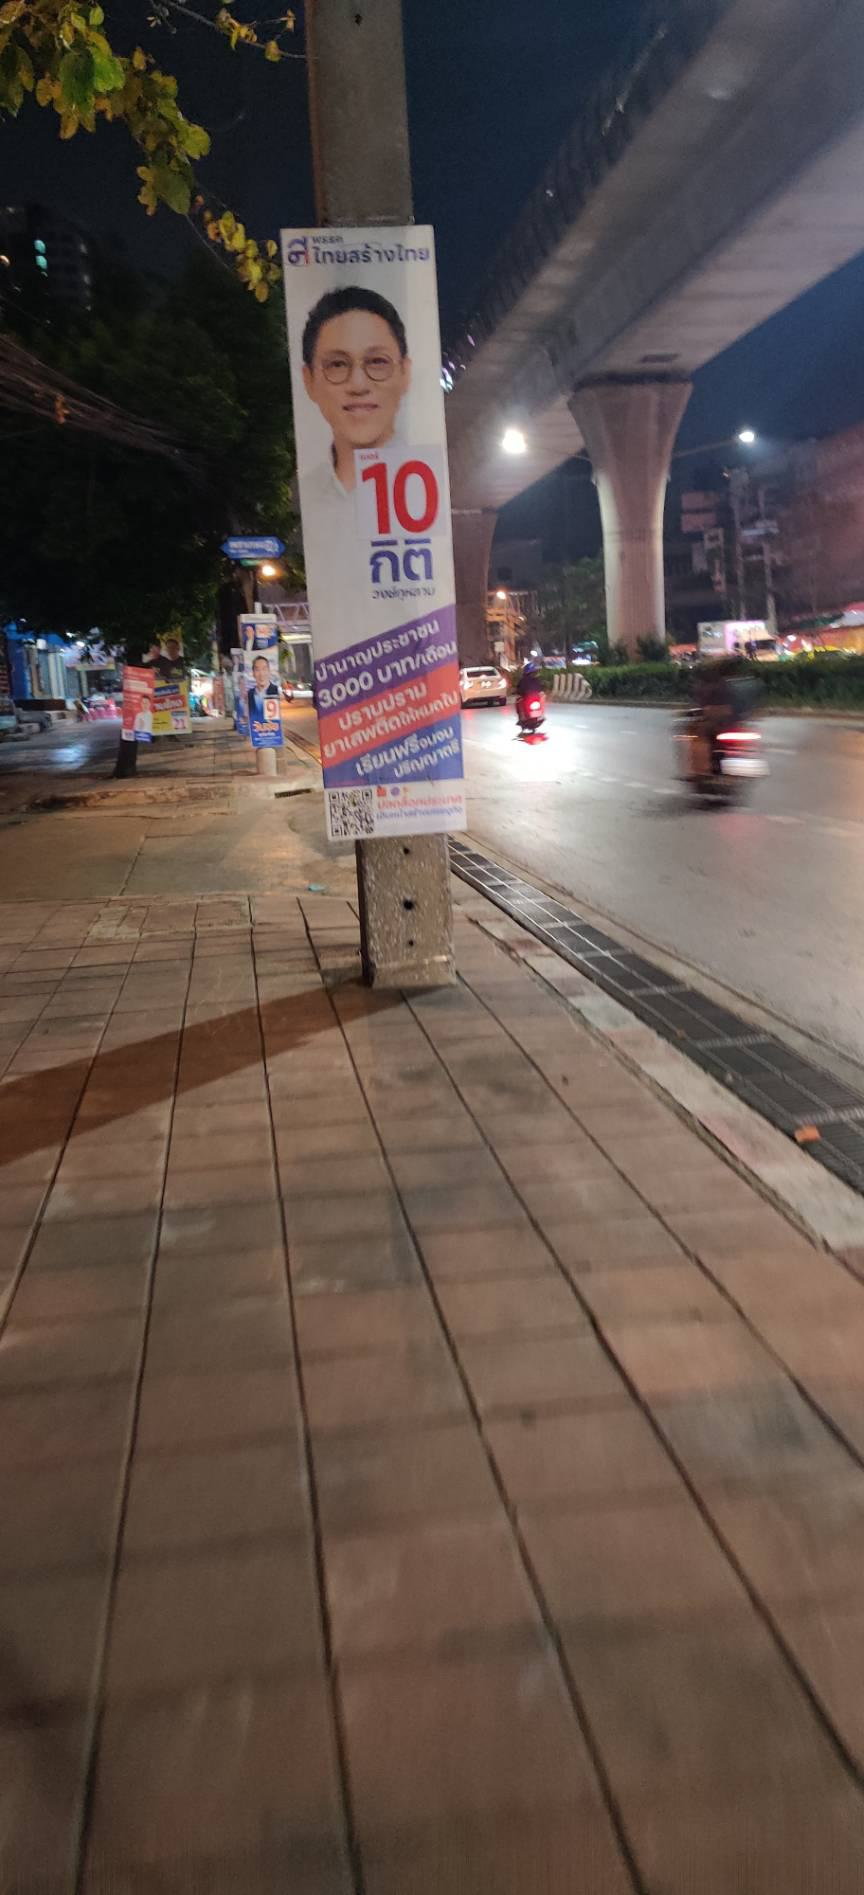Banner: (278, 225, 466, 845), (236, 610, 278, 747)
